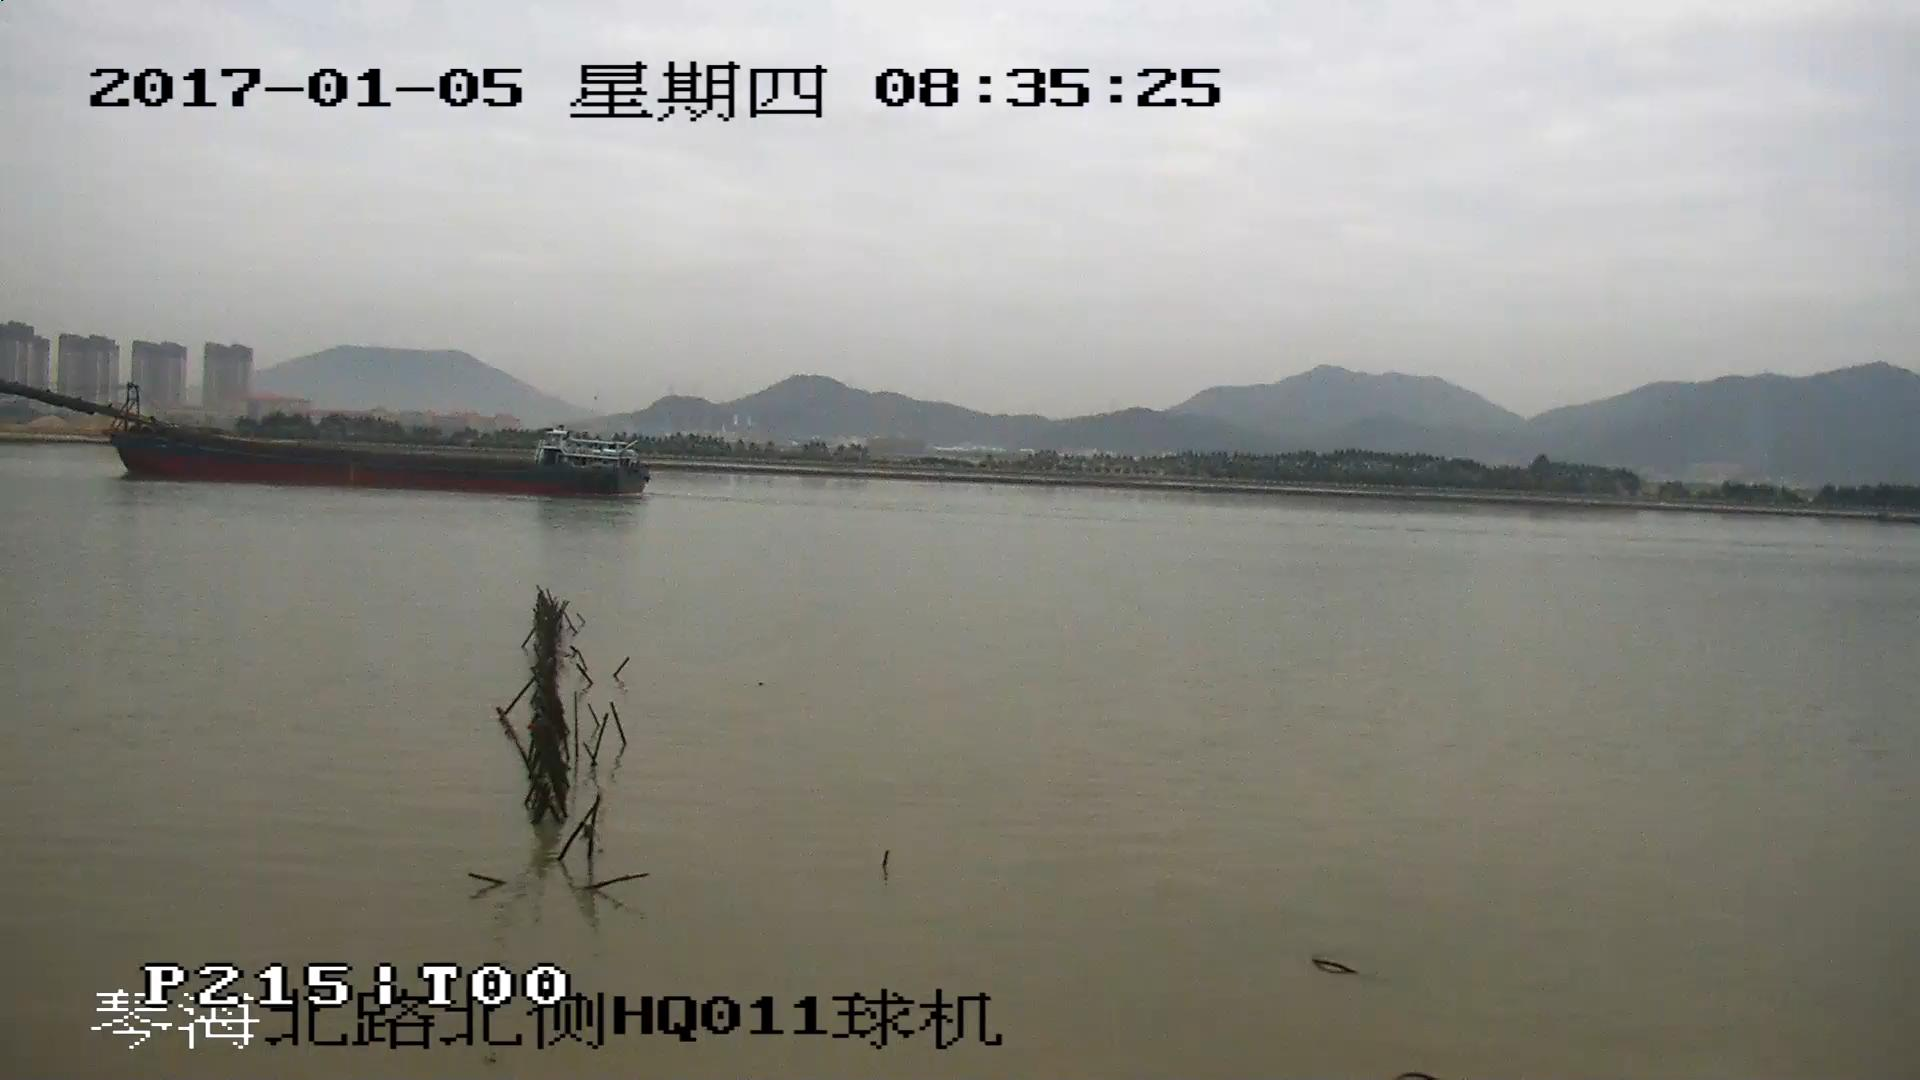bulk cargo carrier: (1, 382, 653, 494)
